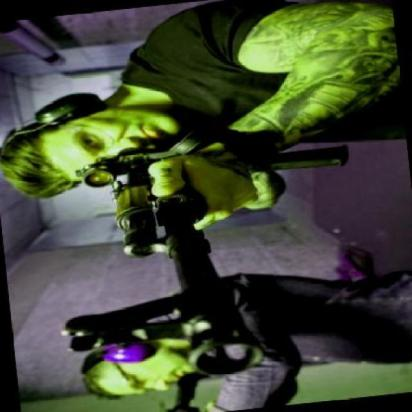Gun: (66, 116, 372, 387)
